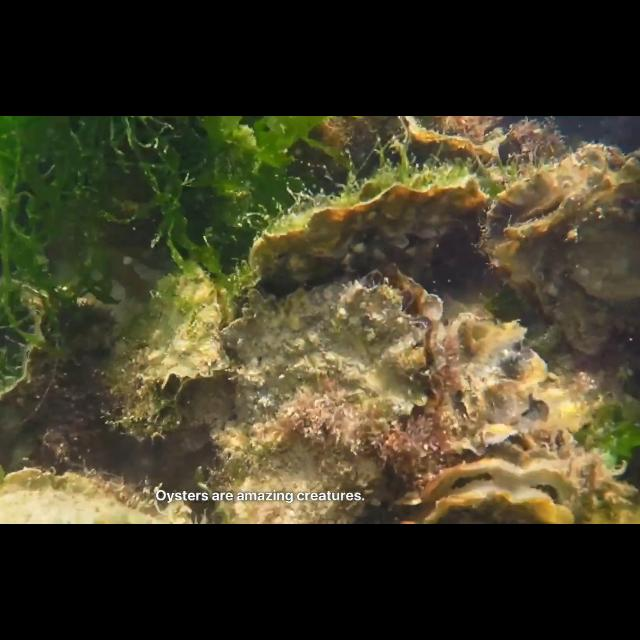Oyster-Closed: (249, 178, 491, 300), (0, 347, 112, 479)
Oyster-Open: (207, 264, 447, 524), (483, 142, 640, 355), (444, 312, 550, 458), (388, 456, 580, 524), (144, 268, 232, 402), (0, 465, 188, 525), (103, 326, 187, 438), (398, 116, 496, 176)
